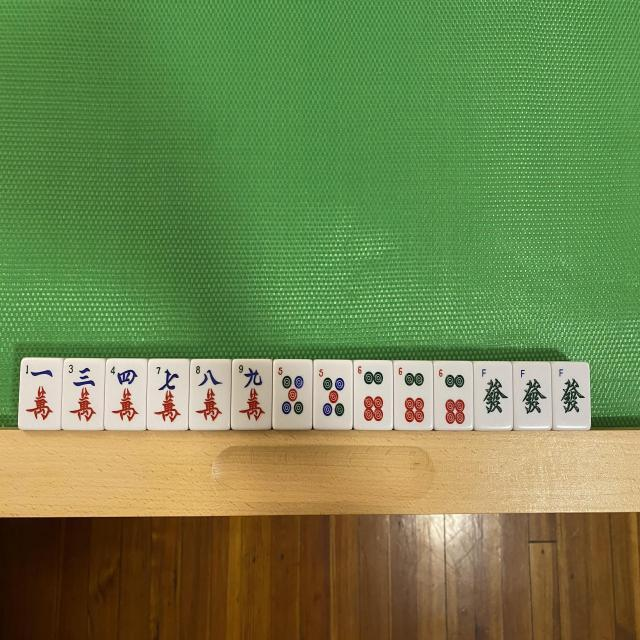hdg: (554, 365, 588, 428), (476, 364, 509, 427), (516, 366, 548, 428)
sc1: (20, 360, 60, 430)
sc3: (62, 360, 103, 428)
sc4: (106, 361, 145, 428)
sc7: (148, 361, 188, 428)
sc8: (190, 361, 230, 429)
sc9: (232, 360, 272, 427)
sd5: (272, 360, 311, 428), (315, 361, 350, 427)
sd6: (356, 362, 390, 428), (396, 364, 430, 428), (436, 364, 469, 429)
